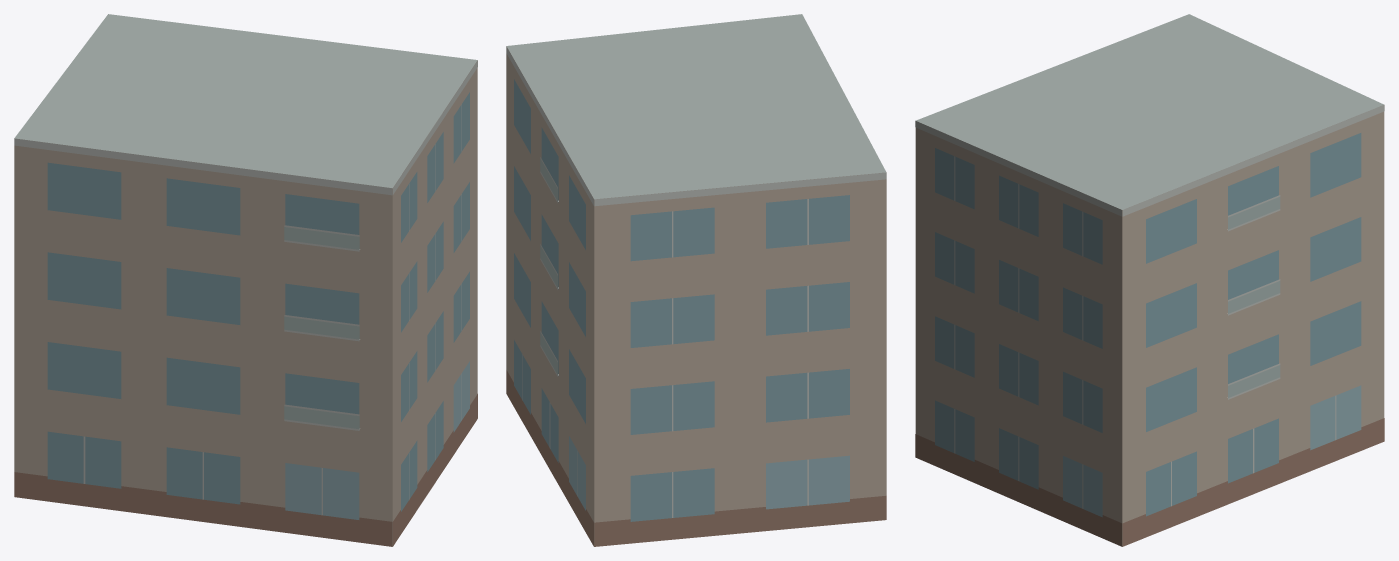
The model's file is survey-upis-32951921.glb.
3 renders of one model, left to right at view 1: azimuth 30°, elevation 25°; view 2: azimuth 150°, elevation 25°; view 3: azimuth 270°, elevation 25°, orthographic. The views are drawn at different scales.
Visible parts, largest first — view 1: survey-upis-32951921.tmp; view 2: survey-upis-32951921.tmp; view 3: survey-upis-32951921.tmp.
Boxes of the visible parts, left/top/right/bottom form: survey-upis-32951921.tmp: left=14, top=14, right=477, bottom=546; survey-upis-32951921.tmp: left=506, top=14, right=886, bottom=546; survey-upis-32951921.tmp: left=915, top=14, right=1384, bottom=546.
Size of the model in its own units: 15.24 by 12.2 by 15.4.
